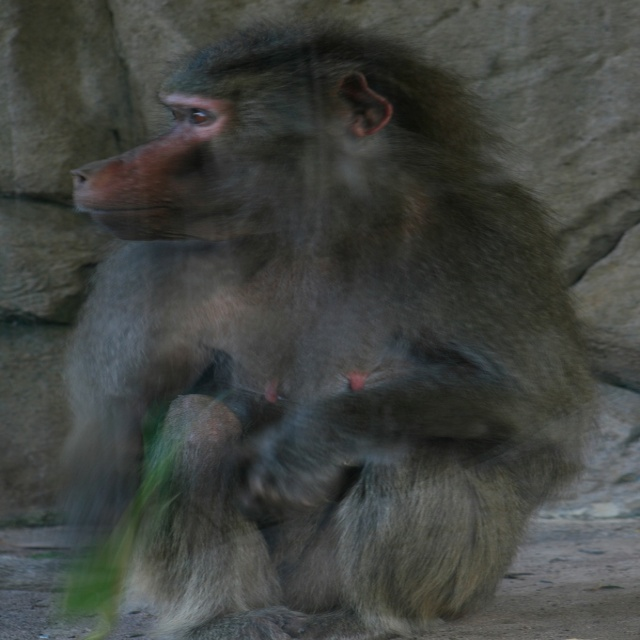Monkey: (64, 23, 617, 640)
